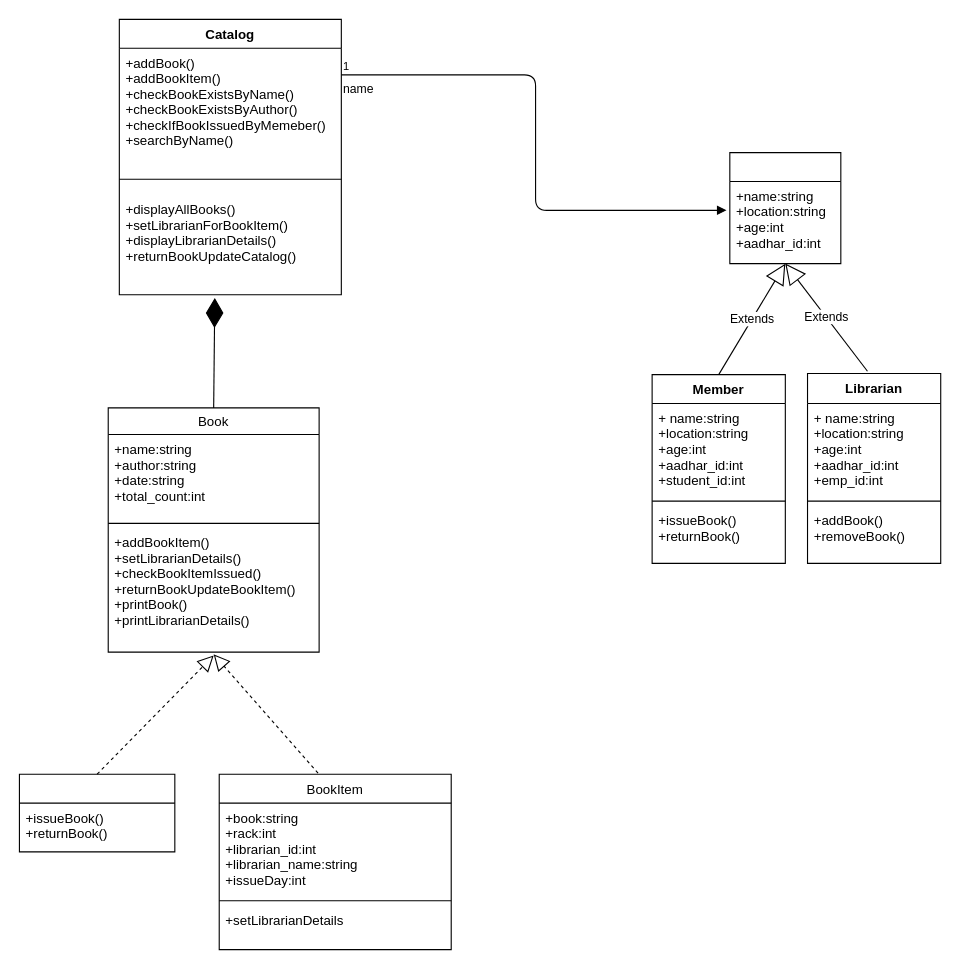
Some shapes in this 960 by 972 pixel diagram are drawn without their labels. The box of each missing label's shape, as (x1, y1, x2, y2) in pixels:
BookIssue: (18, 773, 175, 852)
User: (729, 152, 841, 264)
